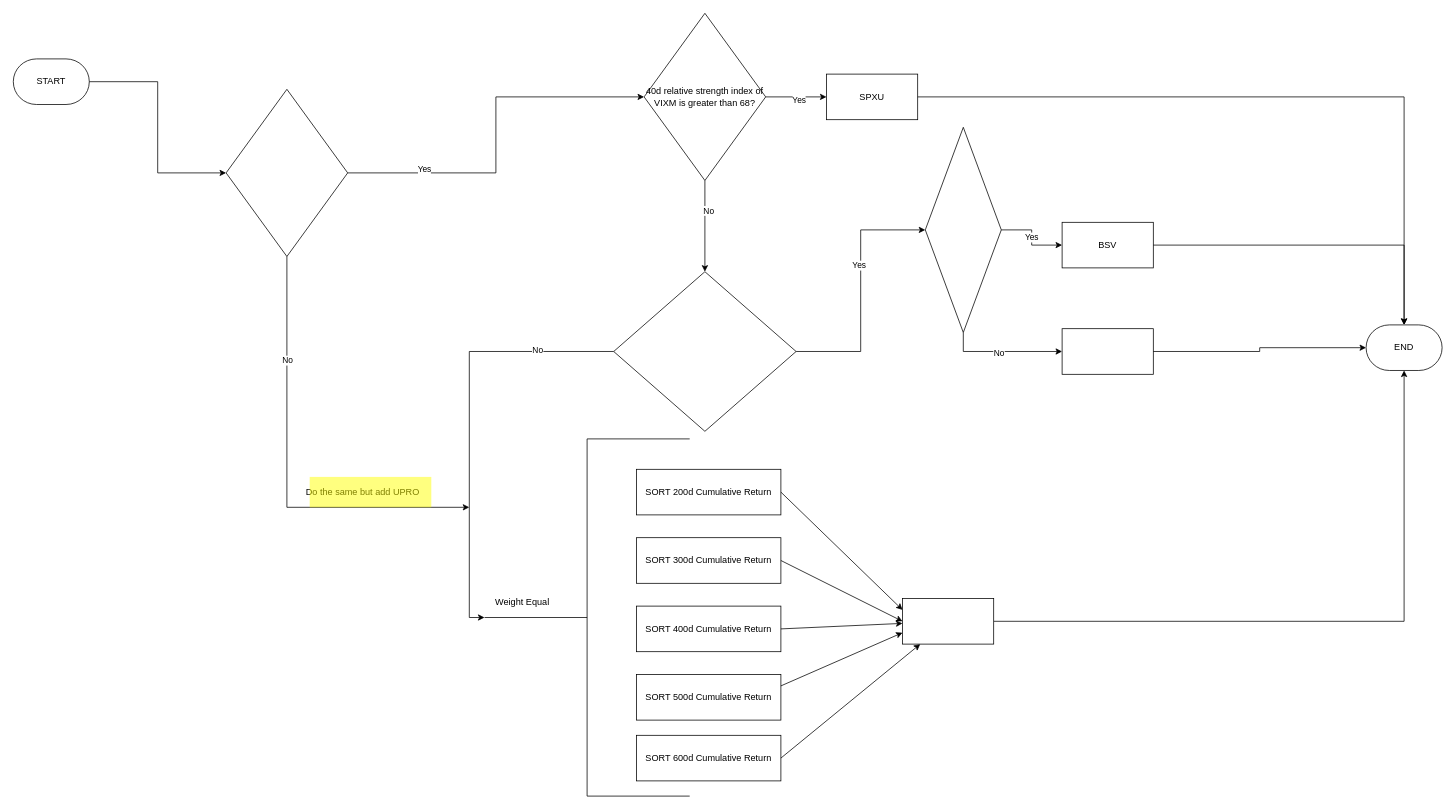
This 1455x809 diagram has some shape labels left out. The centre of each missing label's shape, as x and y in pixels:
"1d cumulative return of TQQ is greater than 5%" belongs at point 963,229.
"5d cumulative return of QQQ is less than -3%?" belongs at point 704,351.
"If 300d cumulative return of SPY is less than 300d cumulative return of DBC" belongs at point 286,172.
"SELECT Top 1 - SPY - DBC" belongs at point 948,621.
"TQQQ" belongs at point 1107,351.
